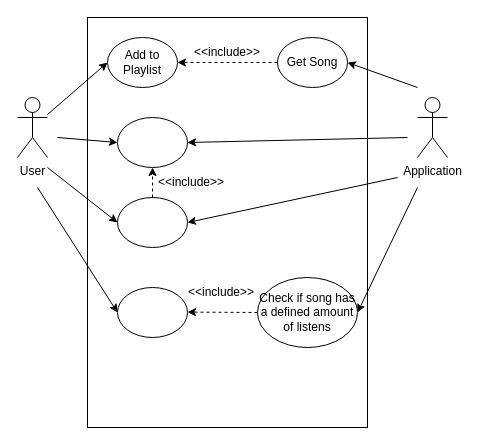
Image size: 479x445. Some labels were removed from this diagram. The shapes that lost their labels are listed below. From the top down, each one's centre as x and y in pixels, then its label:
At (152,142): "Remove from Playlist".
At (152,222): "Check if song is in a playlist".
At (152,312): "Get all Songs".
